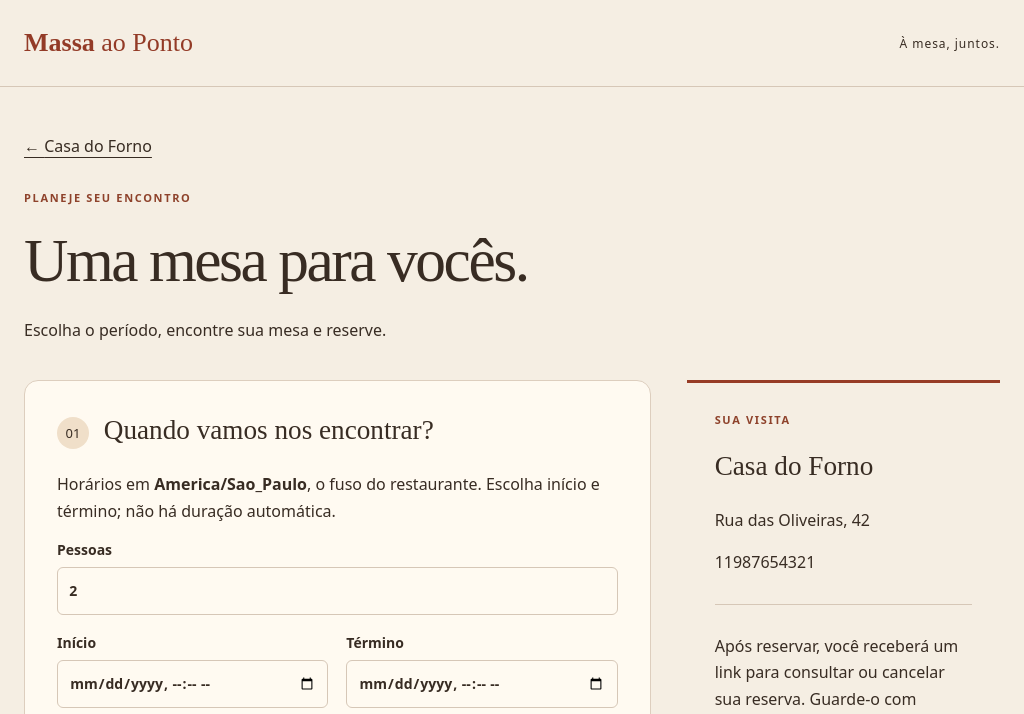
Test: Public reservation UI › allows availability outside weekly hours while manually OPEN
This screenshot has width=1024, height=714.
Expected: the number field labelled "Pessoas" is shown, [57, 567, 618, 615]
Type "2030-09-10T19:00" into the field labelled "Início".
click(193, 684); type("2030-09-10T19:00")  # box [57, 660, 328, 708]
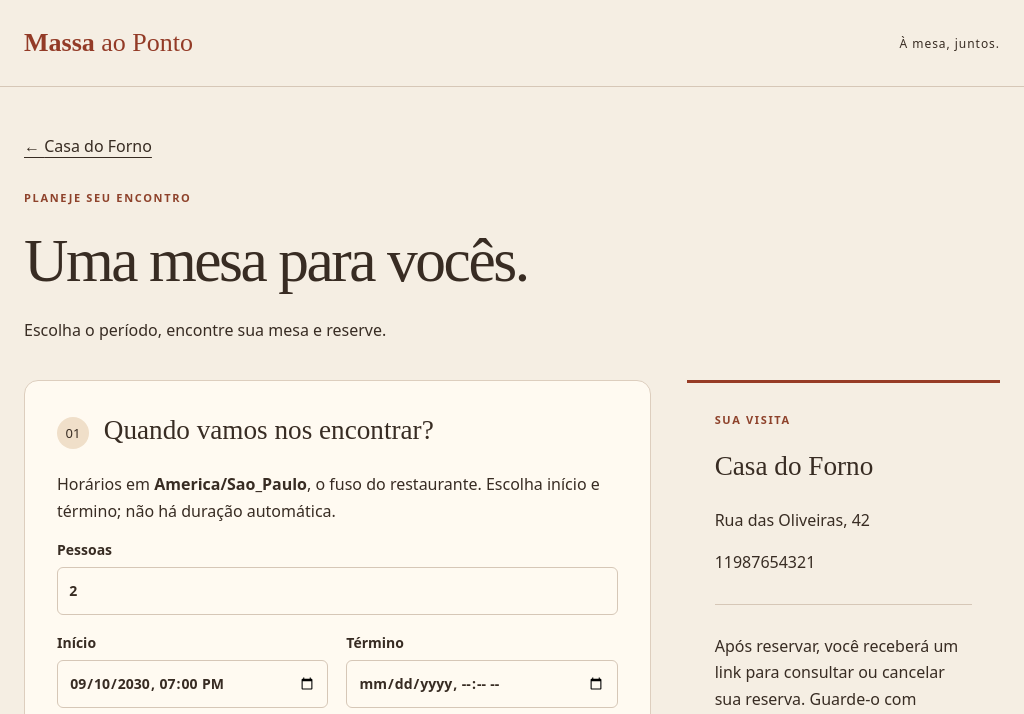
Type "2030-09-10T21:00" into the field labelled "Término".
click(482, 684); type("2030-09-10T21:00")  # box [346, 660, 618, 708]
(page scrolled)
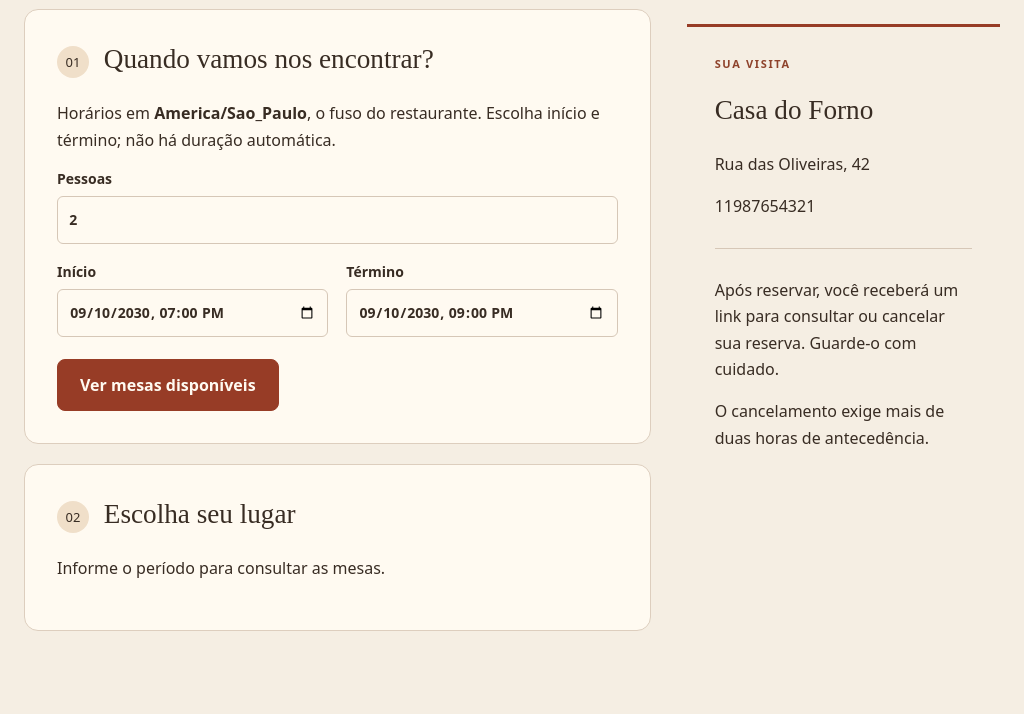
Click the button "Ver mesas disponíveis".
click(168, 385)  # box [57, 359, 279, 411]
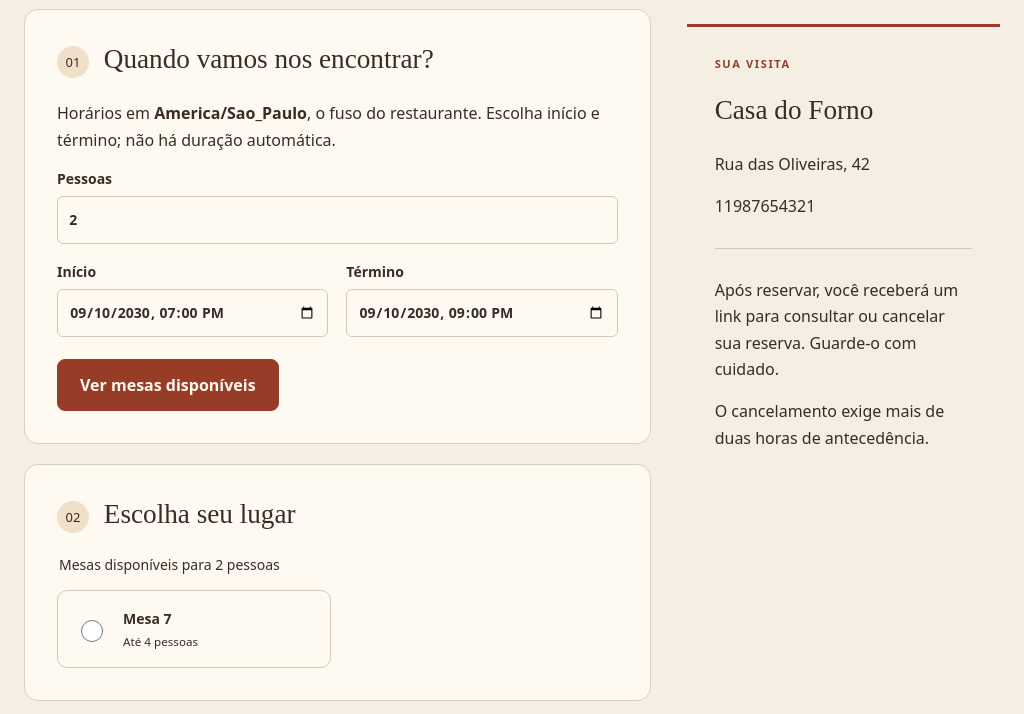
Expected: the radio button labelled "Mesa 7 Até 4 pessoas" is shown, [81, 620, 103, 642]
